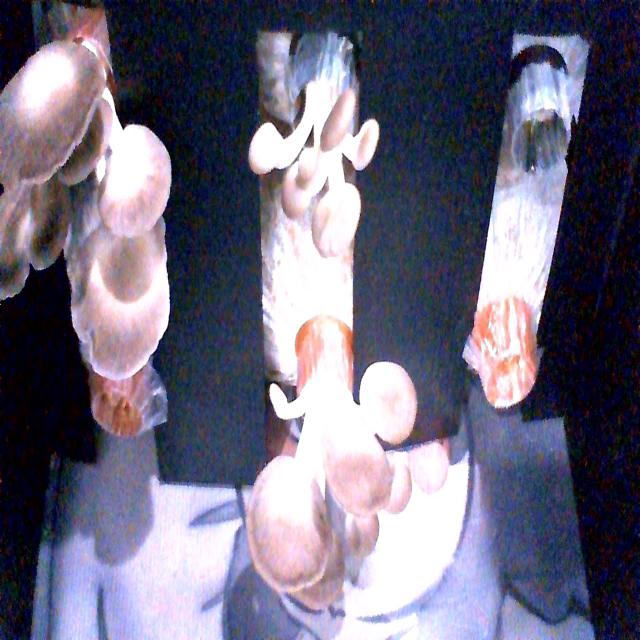big: (0, 46, 182, 390), (231, 355, 439, 621)
nfound: (80, 364, 158, 449), (476, 333, 548, 422), (518, 88, 578, 189)
small: (248, 80, 390, 268)
